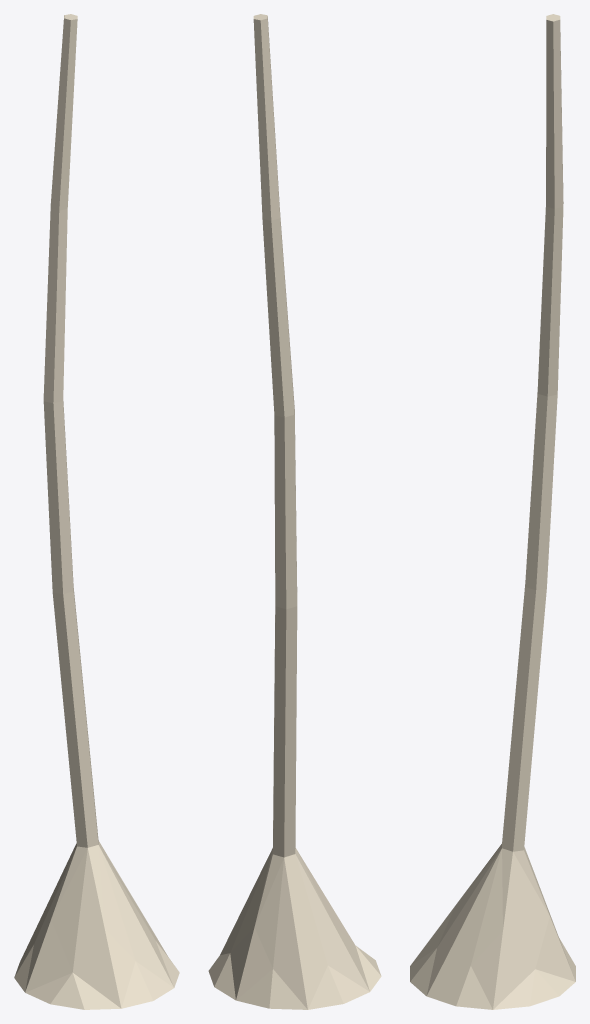
Rendered from Yucca3_branch.fbx.
3 renders of one model, left to right at view 1: azimuth 30°, elevation 25°; view 2: azimuth 150°, elevation 25°; view 3: azimuth 270°, elevation 25°, orthographic. The views are drawn at different scales.
Visible parts, largest first — view 1: Foliage021; view 2: Foliage021; view 3: Foliage021.
Part boxes in pixels (x1=…): Foliage021: x1=14, y1=14, x2=179, y2=1009; Foliage021: x1=208, y1=14, x2=381, y2=1009; Foliage021: x1=410, y1=14, x2=575, y2=1009.
Bounding box in the file's own units: 47.71 × 297 × 46.51.
